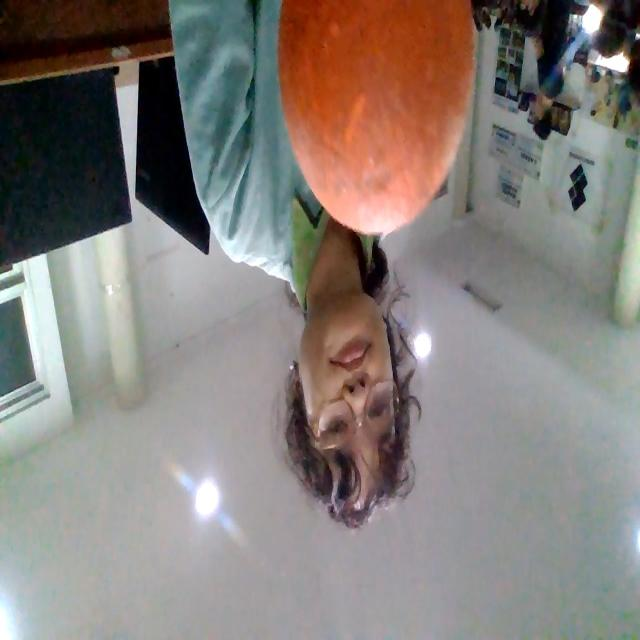ball: (277, 2, 475, 237)
